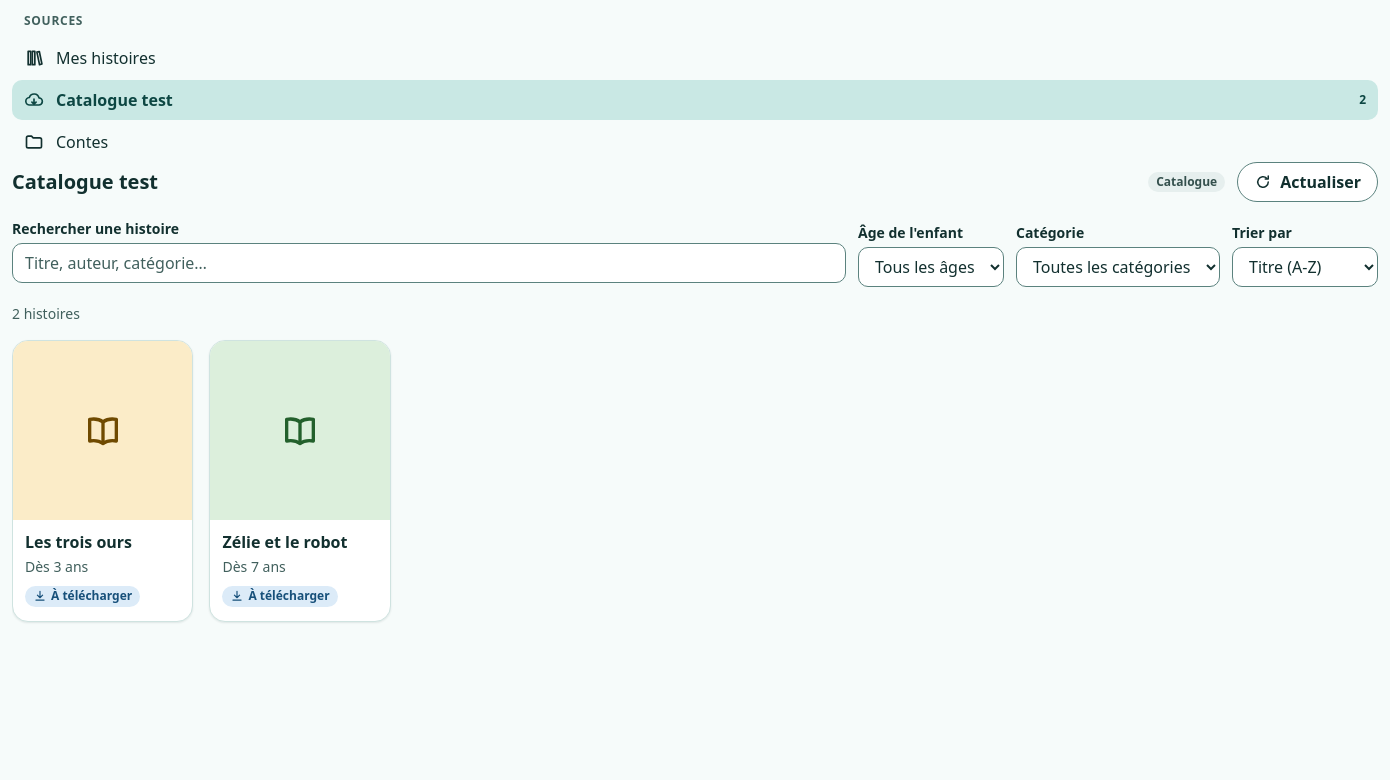
Test case: garde les données et signale l'échec d'une actualisation
Expected: the heading "Les trois ours" is shown, [25,531,132,553]
Click the button "Actualiser" at (1308, 182), box [1237,162,1378,202]
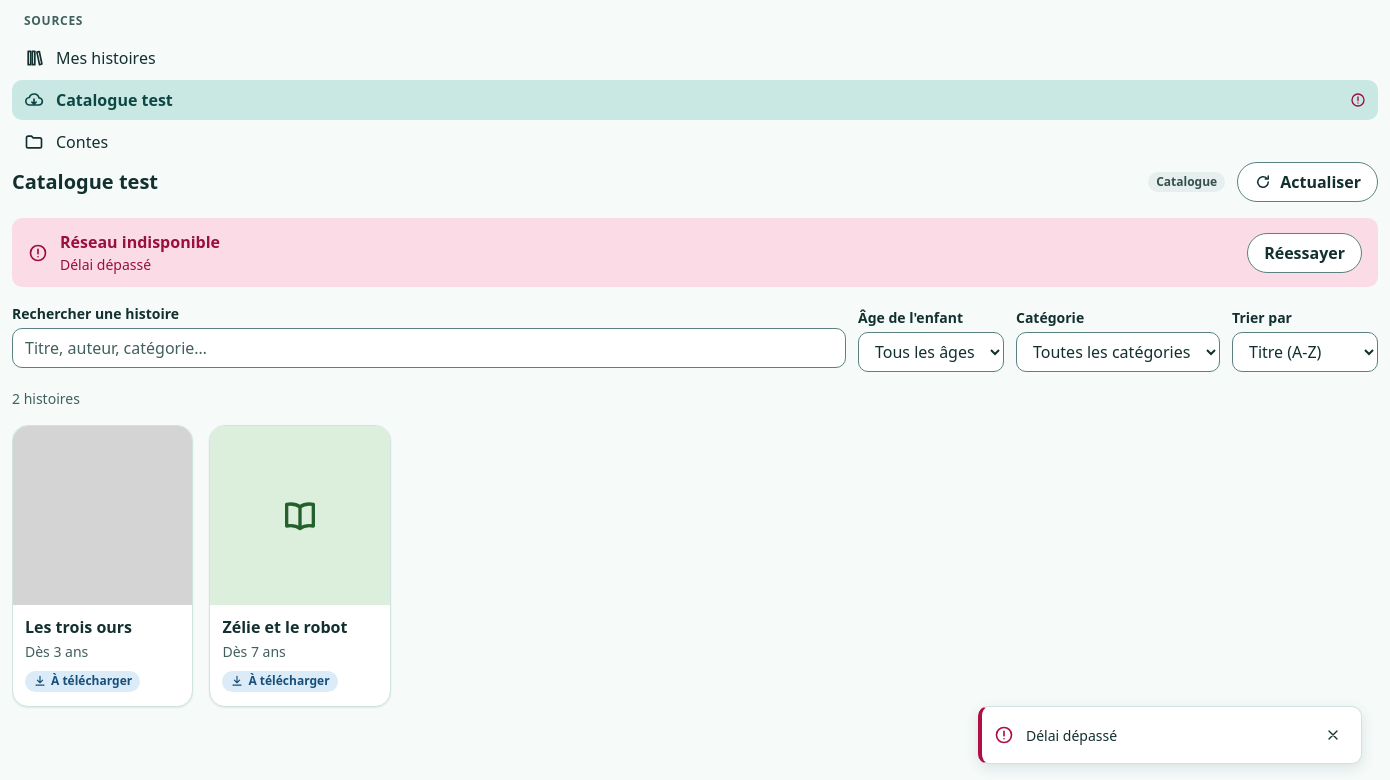
Expected: the text "Délai dépassé" below "Réseau indisponible" is shown, [60,255,151,274]
